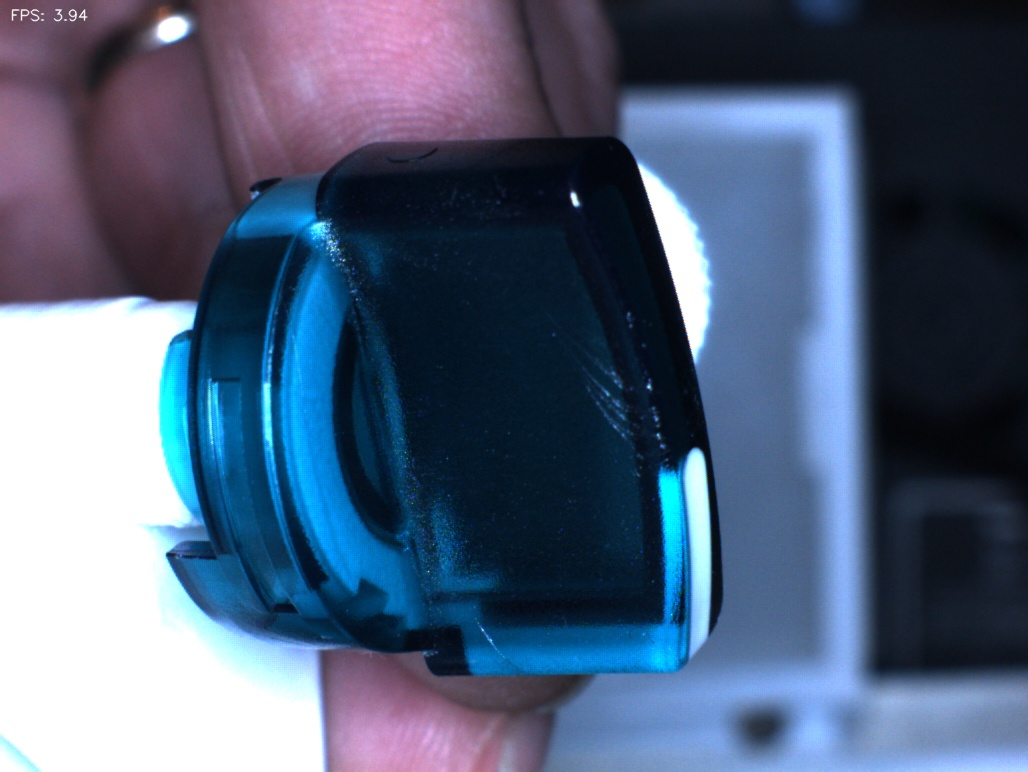Givrage: (543, 313, 654, 485)
